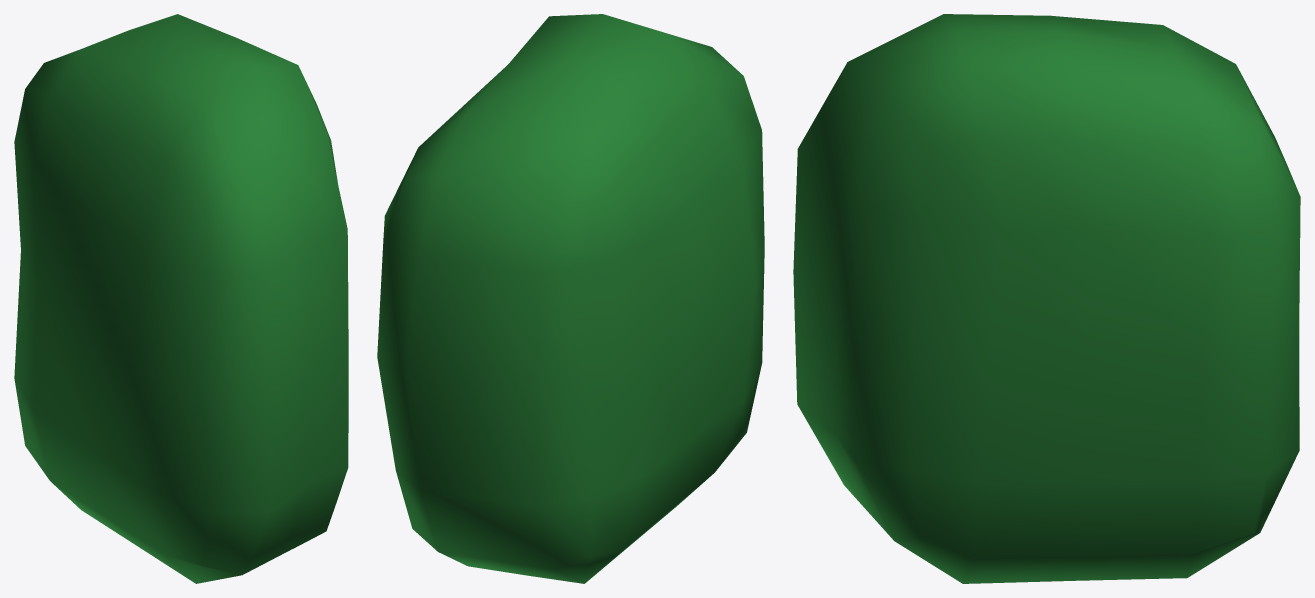
File: Arbusto2.fbx
The picture shows the model from 3 angles, left to right: view 1: azimuth 30°, elevation 25°; view 2: azimuth 150°, elevation 25°; view 3: azimuth 270°, elevation 25°; orthographic projection. The views are drawn at different scales.
Parts seen in each view (by area): view 1: Arbusto2; view 2: Arbusto2; view 3: Arbusto2.
Boxes of the visible parts, <box> form: Arbusto2: <box>14,14,348,583</box>; Arbusto2: <box>377,14,764,583</box>; Arbusto2: <box>793,14,1300,583</box>.
Bounding box in the file's own units: 663 × 1301 × 1130.
